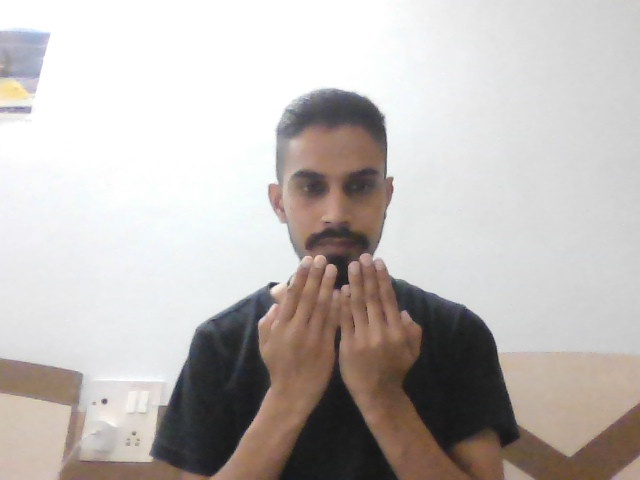ThankYou: (259, 249, 422, 397)
